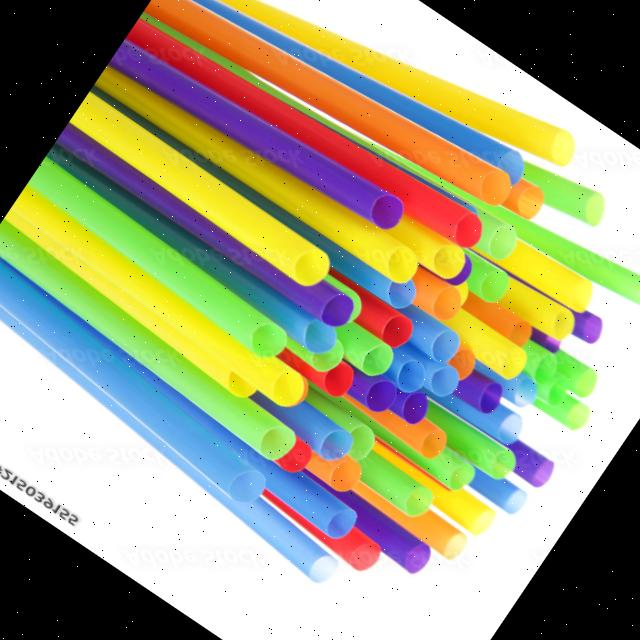plastic: (101, 9, 430, 265)
